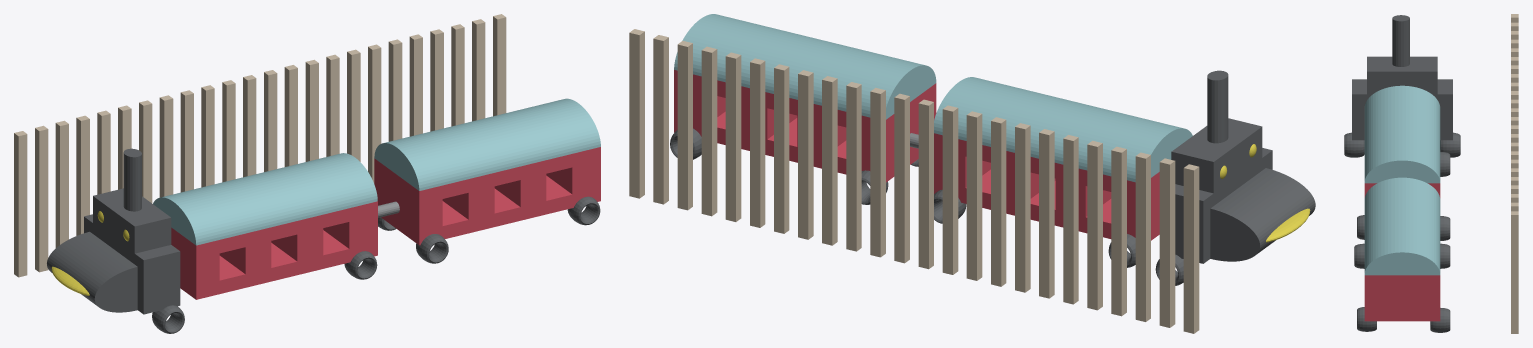
Rendered from Fabulous Crift.glb.
3 views of the same model, side by side, from view 1: azimuth 30°, elevation 25°; view 2: azimuth 150°, elevation 25°; view 3: azimuth 270°, elevation 25° (orthographic). The views are drawn at different scales.
Parts seen in each view (by area): view 1: Mesh_Mesh_head_geo.001_lambert2SG.001; view 2: Mesh_Mesh_head_geo.001_lambert2SG.001; view 3: Mesh_Mesh_head_geo.001_lambert2SG.001.
Boxes of the visible parts, x1=… form: Mesh_Mesh_head_geo.001_lambert2SG.001: x1=14, y1=14, x2=600, y2=333; Mesh_Mesh_head_geo.001_lambert2SG.001: x1=629, y1=14, x2=1315, y2=333; Mesh_Mesh_head_geo.001_lambert2SG.001: x1=1344, y1=14, x2=1518, y2=333.
Size of the model in its own units: 199 by 59 by 69.
